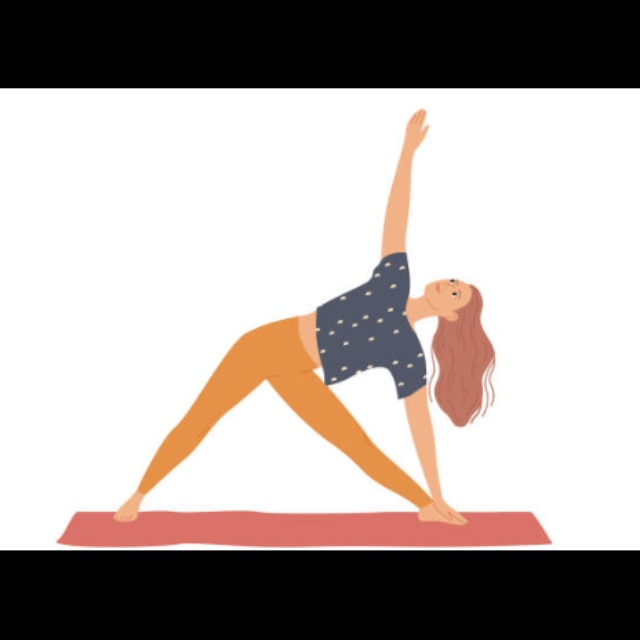Triangle_Pose: (105, 104, 502, 536)
